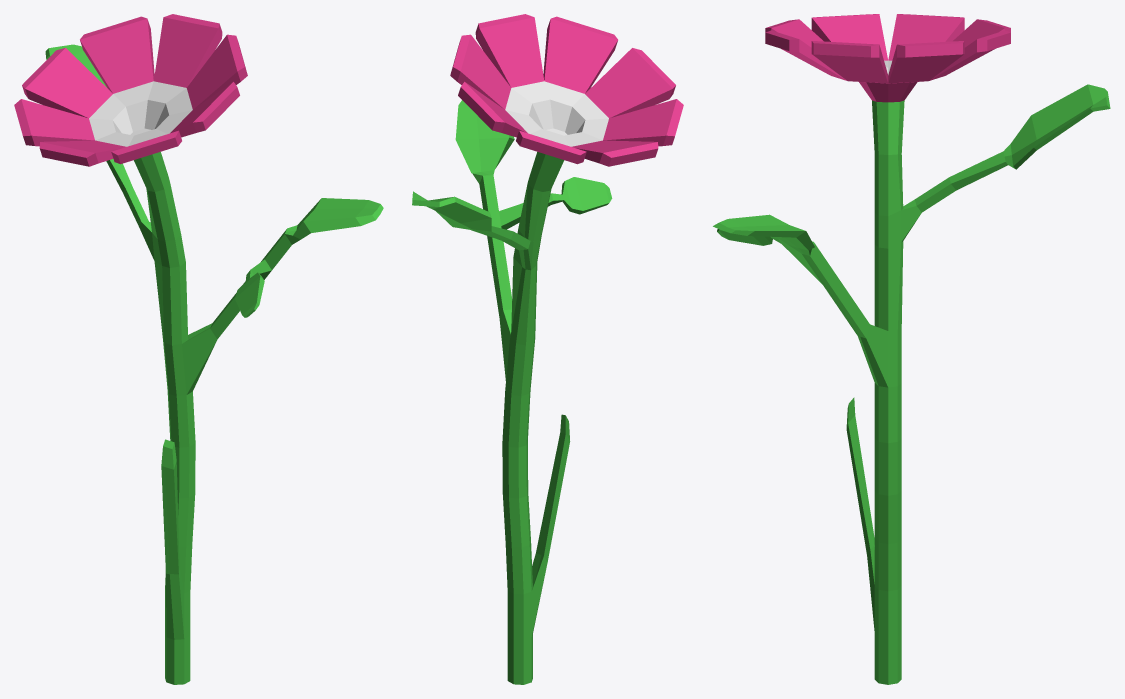
The model's file is flower_purple.glb.
The picture shows the model from 3 angles, left to right: view 1: azimuth 30°, elevation 25°; view 2: azimuth 150°, elevation 25°; view 3: azimuth 270°, elevation 25°; orthographic projection. The views are drawn at different scales.
Visible parts, largest first — view 1: flower1; view 2: flower1; view 3: flower1.
Boxes of the visible parts, x1,y1,x2,y2 form: flower1: [14, 14, 383, 684]; flower1: [412, 14, 683, 684]; flower1: [713, 14, 1110, 684].
Bounding box in the file's own units: 0.4038 × 0.8903 × 0.4879.
